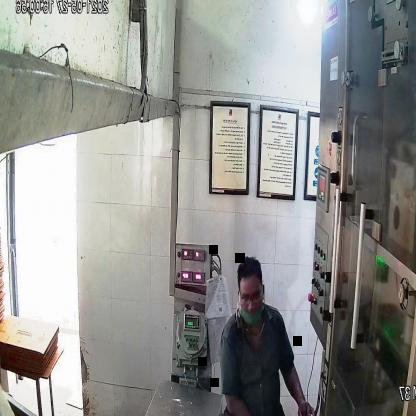goggles: (236, 283, 265, 310)
